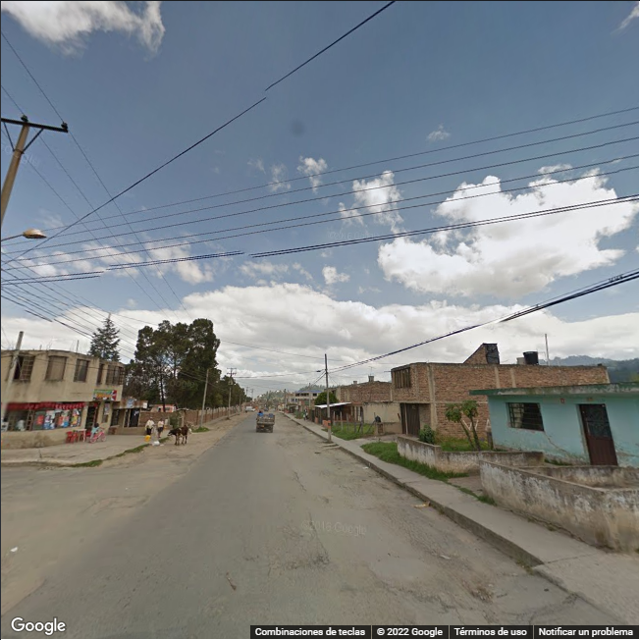D00: (365, 567, 452, 614), (302, 505, 344, 566), (264, 540, 270, 586)
D40: (458, 581, 496, 600)
